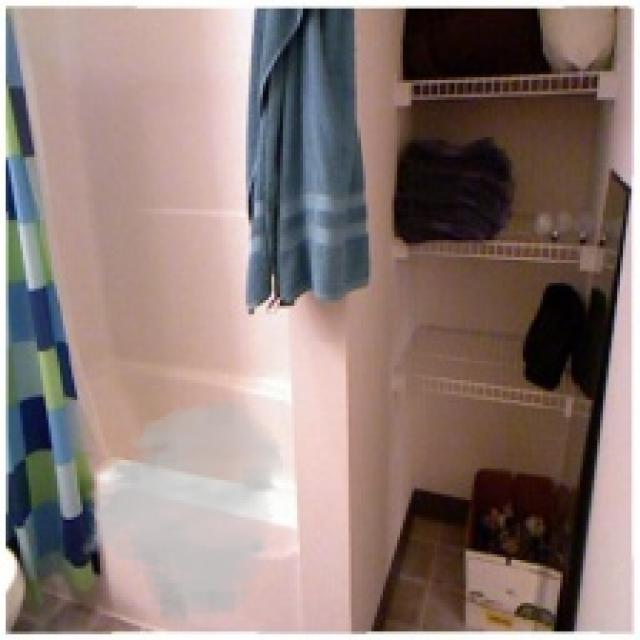smoke: (80, 394, 286, 629)
